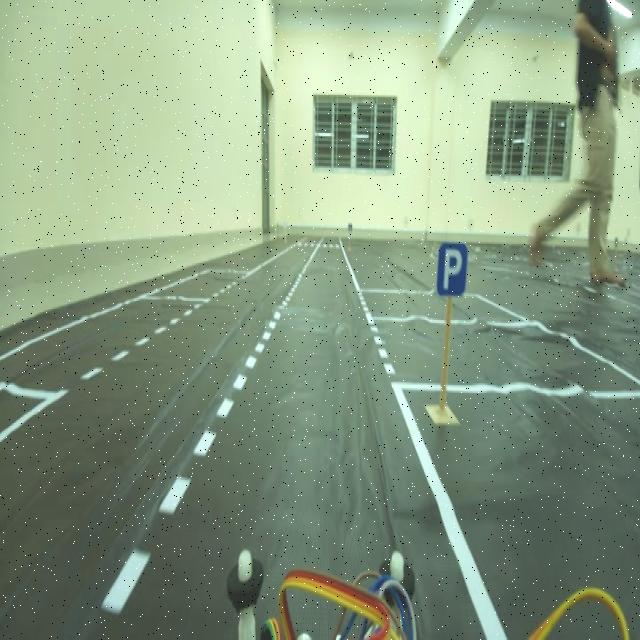parking: (436, 235, 470, 305)
